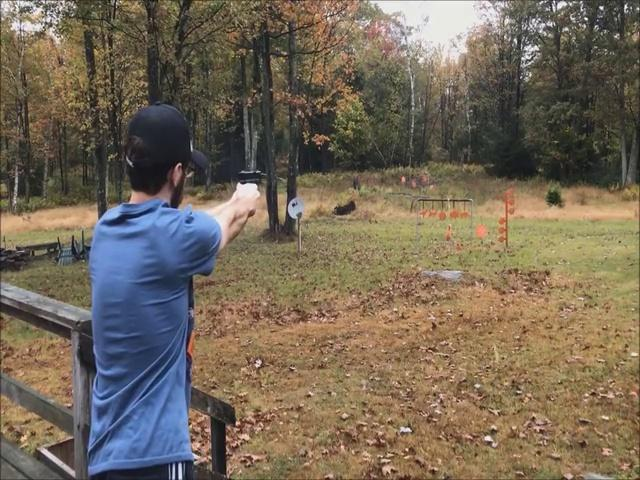gun: (227, 162, 292, 218)
